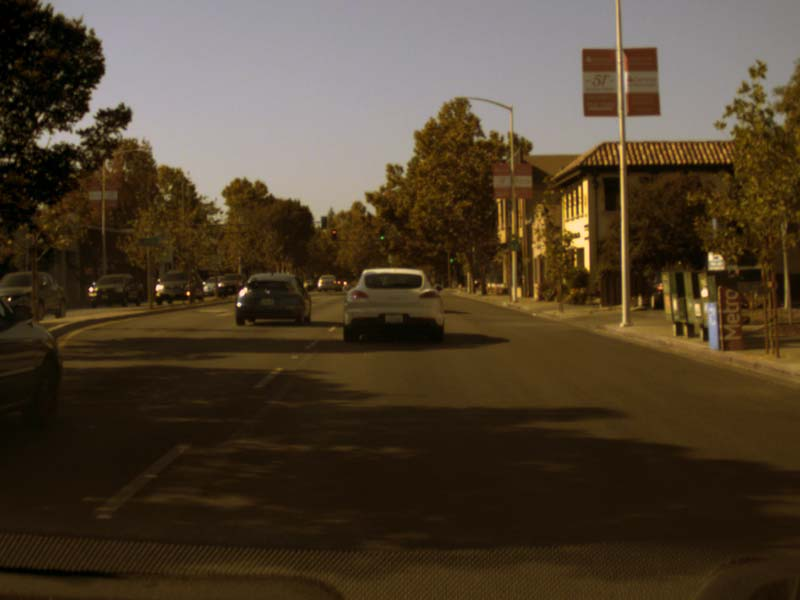Green: (379, 228, 385, 240), (449, 252, 454, 262)
Red: (331, 229, 337, 238), (451, 265, 454, 273)
